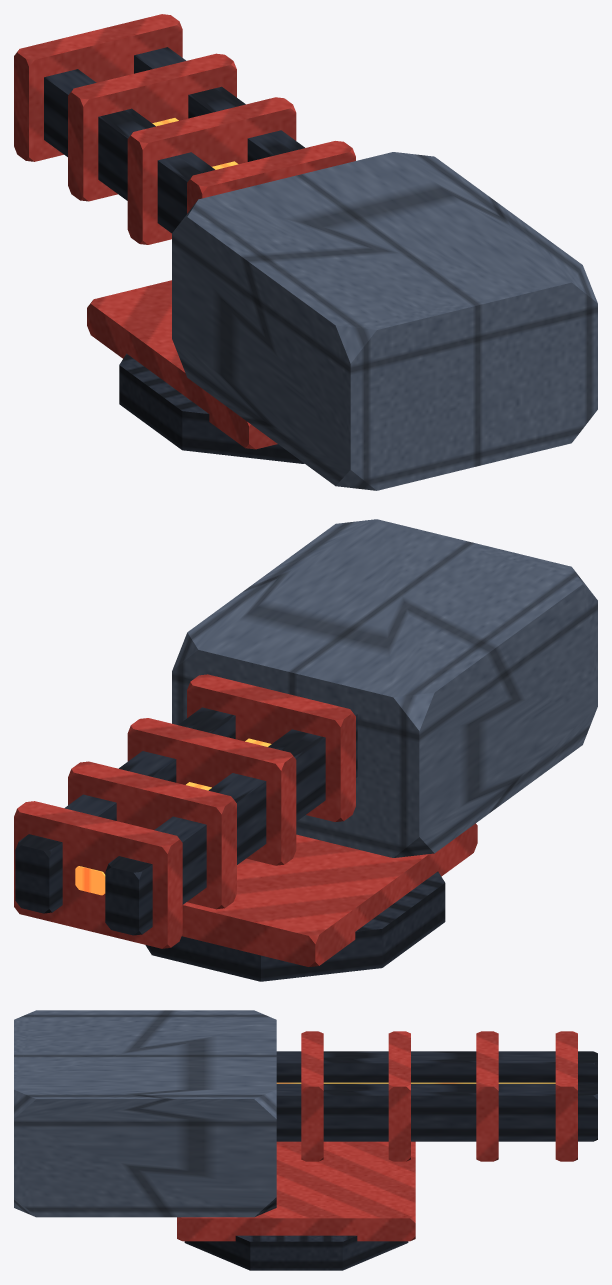
Rendered from eq_railgun.glb.
The picture shows the model from 3 angles, top to bottom: view 1: azimuth 30°, elevation 25°; view 2: azimuth 150°, elevation 25°; view 3: azimuth 270°, elevation 25°; orthographic projection. The views are drawn at different scales.
Parts seen in each view (by area): view 1: eq_railgun; view 2: eq_railgun; view 3: eq_railgun.
Part boxes in pixels (x1,y1,x2,y2): eq_railgun: (14, 14, 597, 490); eq_railgun: (14, 519, 597, 981); eq_railgun: (14, 1010, 597, 1270).
Bounding box in the file's own units: 1.4 × 1.17 × 3.67.
Materials: 1 (1 with a texture image).
